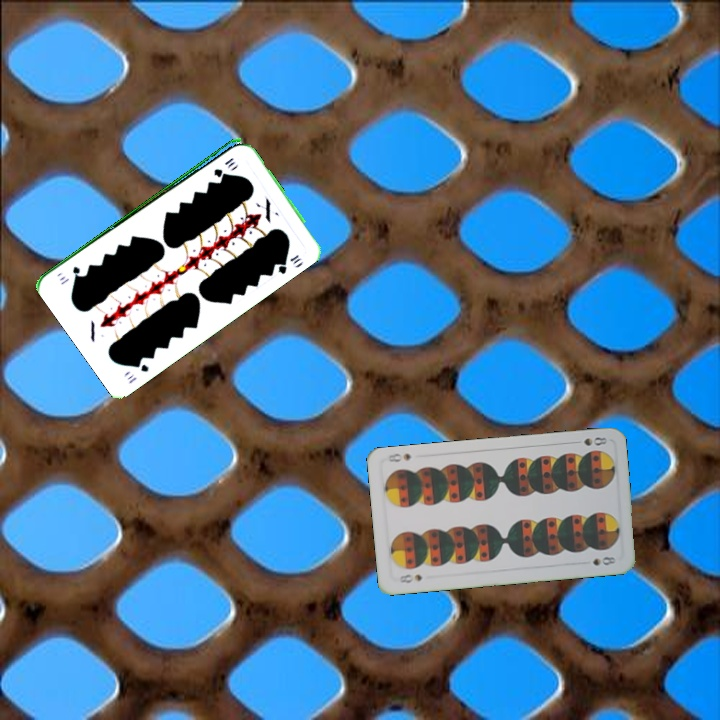G10: (123, 357, 152, 386), (209, 154, 236, 178)
S8: (569, 433, 610, 448), (395, 570, 425, 586)
